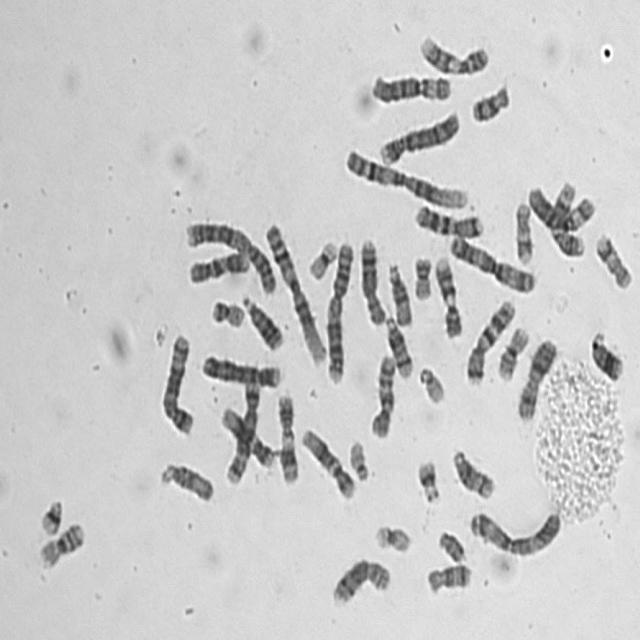A1: (259, 216, 327, 368), (340, 140, 470, 212)
A2: (179, 214, 278, 296), (321, 232, 356, 386)
A3: (444, 228, 538, 294), (465, 502, 563, 558)
B4: (373, 102, 462, 167), (196, 346, 284, 389)
B5: (220, 372, 263, 487), (156, 327, 196, 438)
C10: (364, 346, 398, 440), (183, 243, 251, 286)
C11: (546, 175, 587, 258), (272, 386, 300, 484)
C12: (296, 420, 358, 500), (217, 398, 276, 469)
C6: (523, 178, 596, 234), (366, 66, 454, 105)
C7: (461, 292, 518, 386), (410, 198, 486, 240)
C8: (327, 551, 393, 607), (354, 230, 387, 328)
C9: (414, 27, 490, 78), (429, 250, 464, 340)
D13: (237, 288, 284, 352), (585, 322, 625, 382)
D14: (446, 442, 497, 502), (380, 308, 414, 379)
D15: (154, 454, 216, 504), (382, 256, 413, 328)
E16: (33, 514, 86, 570), (492, 318, 532, 382)
E17: (590, 226, 634, 292), (509, 196, 535, 266)
E18: (466, 76, 512, 124), (422, 556, 473, 596)
F19: (369, 517, 413, 555), (304, 234, 338, 282)
F20: (206, 292, 247, 330), (408, 248, 434, 302)
G21: (412, 452, 442, 504), (34, 491, 64, 537)
G22: (414, 358, 447, 406), (344, 432, 371, 482)
X: (512, 332, 558, 422)
Y: (433, 523, 467, 565)
